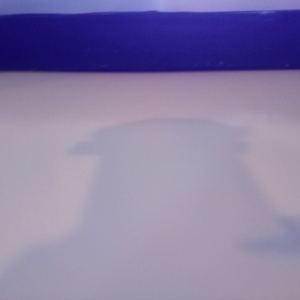zone: (83, 10, 300, 67)
